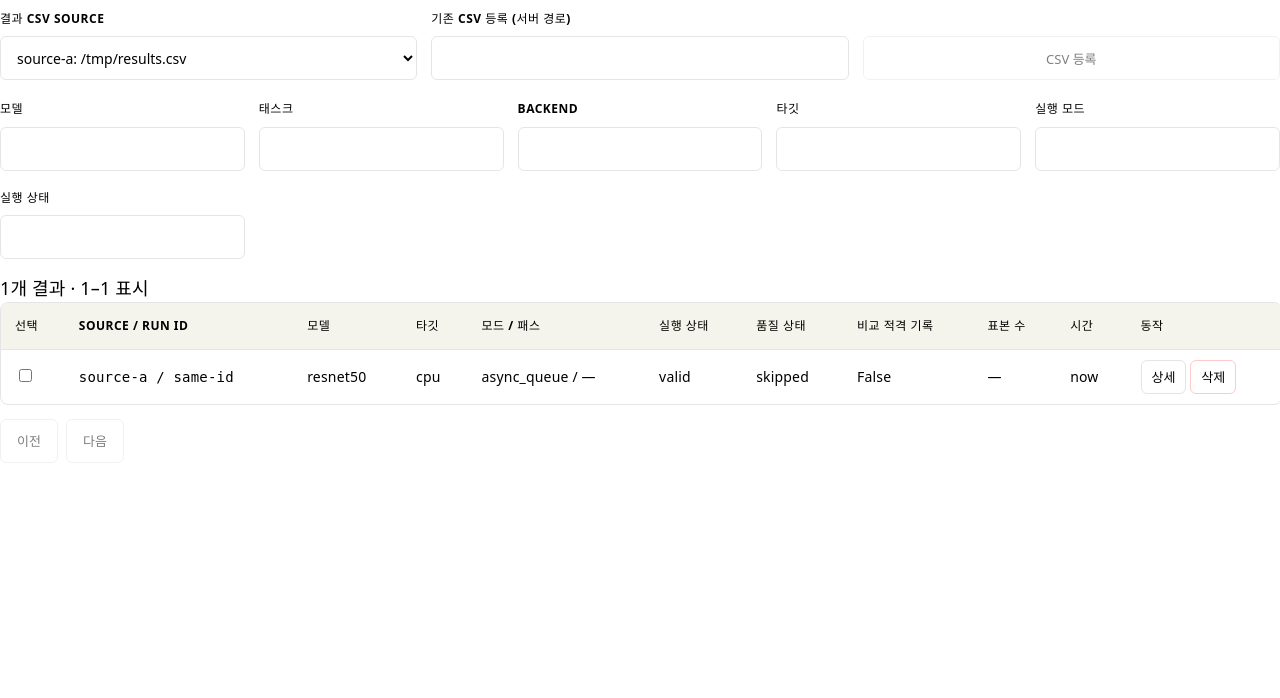
Scenario: keeps source and run ID together and shows stored values without inference
expect the text "source-a / same-id" is shown: met, box [65,349,293,404]
Click the button "상세". click: click(1163, 377)
box: [1140,360,1186,394]
(page scrolled)
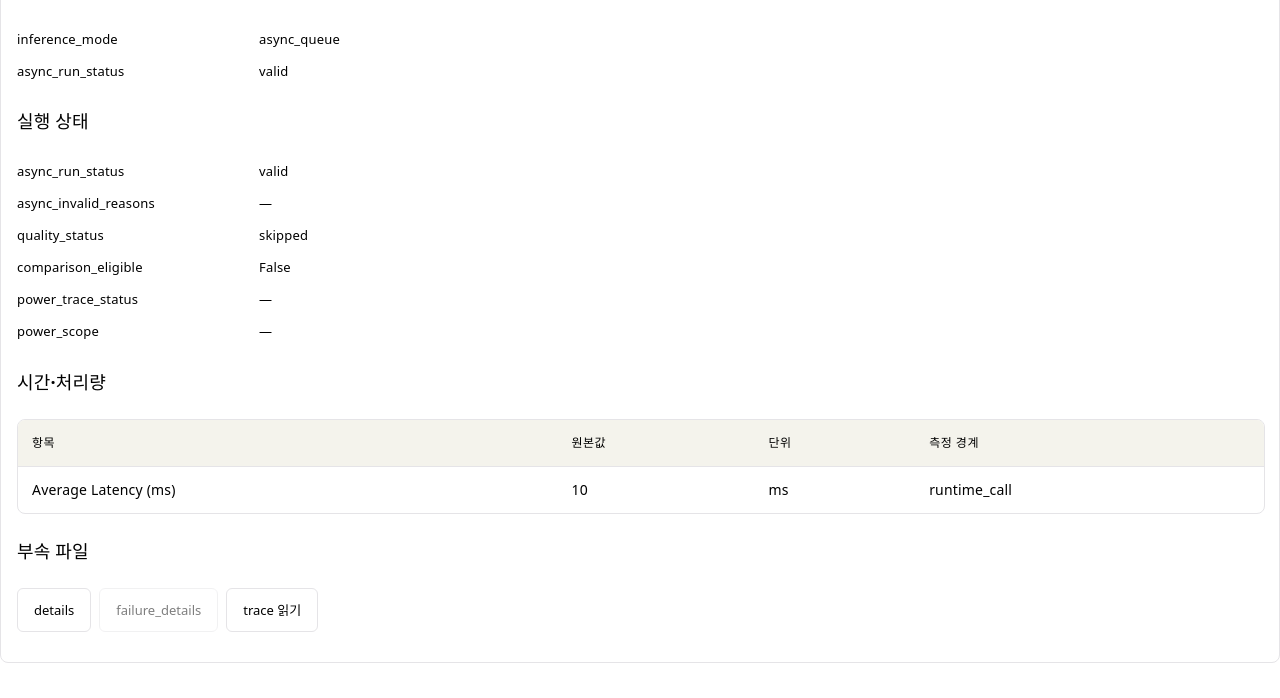
expect the text "Average Latency (ms)" is shown: met, box [18,466,558,513]
Click the button "details". click: click(54, 610)
box: [17,588,91,632]
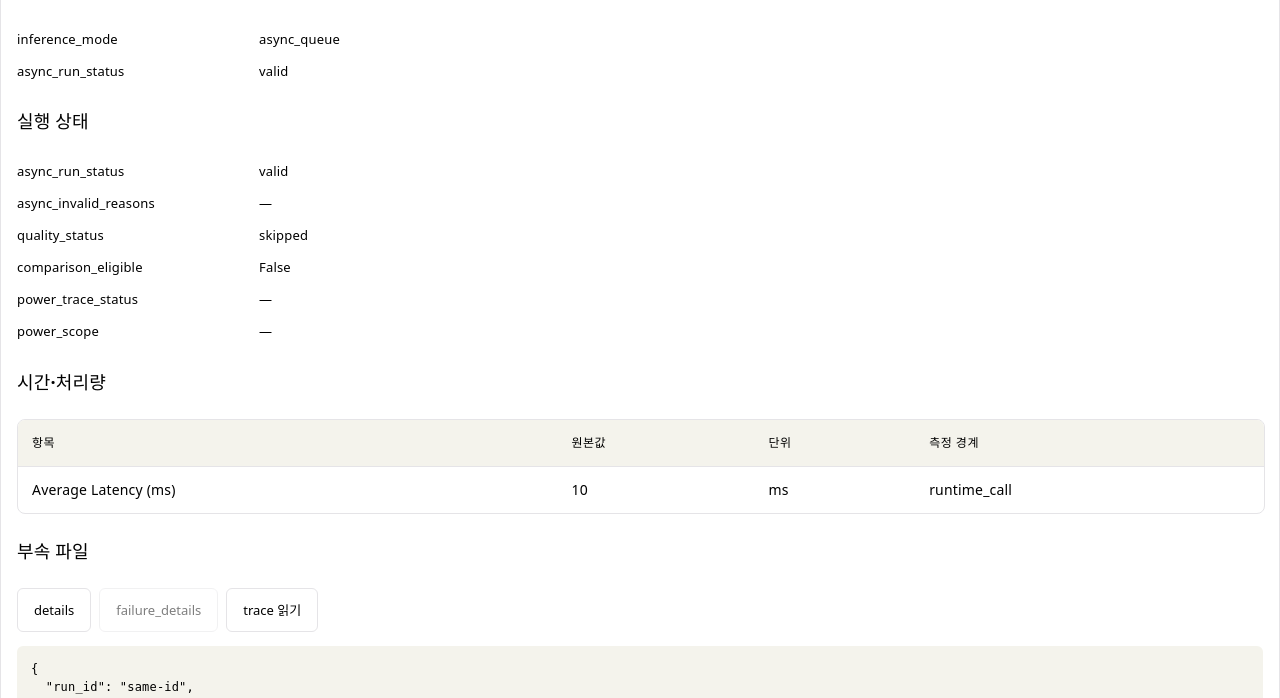
Click the button "trace 읽기". click: click(272, 610)
box: [226,588,318,632]
(page scrolled)
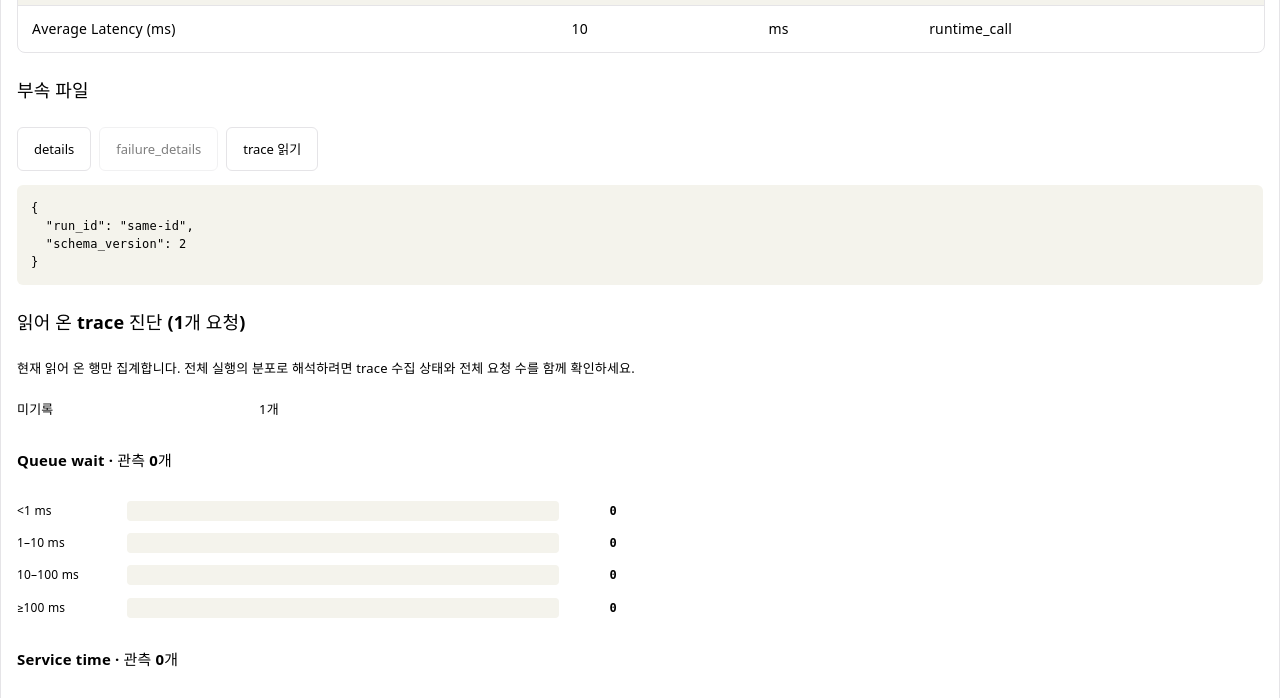
expect the heading "읽어 온 trace 진단 (1개 요청)" is shown: met, box [17,310,246,334]
